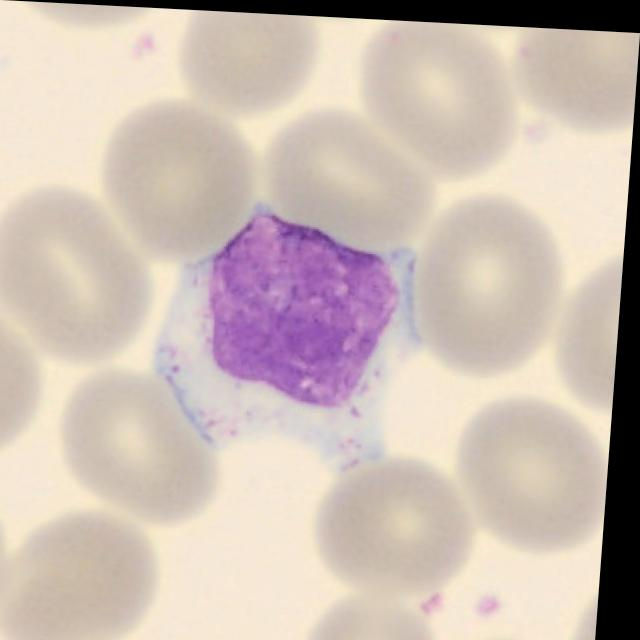Linfocito atipico: (160, 200, 424, 465)
